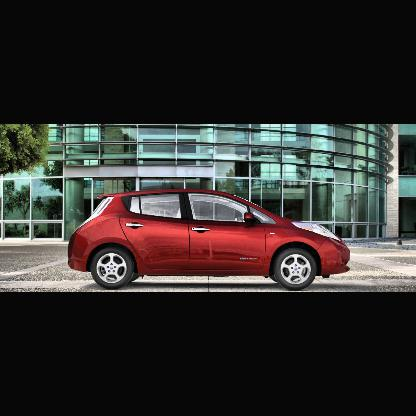Nissan Leaf Hatchback 2012: (68, 189, 353, 289)
